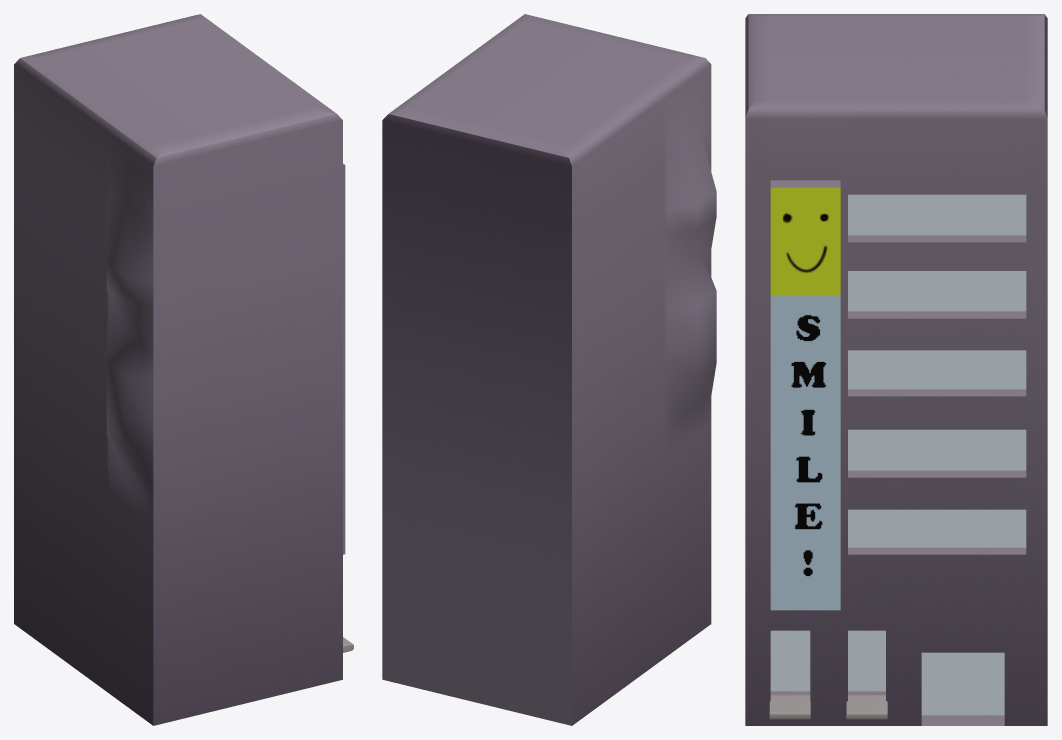
File: BuildingTall_03.fbx
The picture shows the model from 3 angles, left to right: view 1: azimuth 30°, elevation 25°; view 2: azimuth 150°, elevation 25°; view 3: azimuth 270°, elevation 25°; orthographic projection. The views are drawn at different scales.
Parts seen in each view (by area): view 1: polySurface760; view 2: polySurface760; view 3: polySurface760.
Part boxes in pixels (x1,y1,x2,y2): polySurface760: (14, 14, 353, 725); polySurface760: (382, 14, 716, 725); polySurface760: (745, 14, 1047, 725).
Size of the model in its own units: 4.92 by 11.7 by 5.2.
